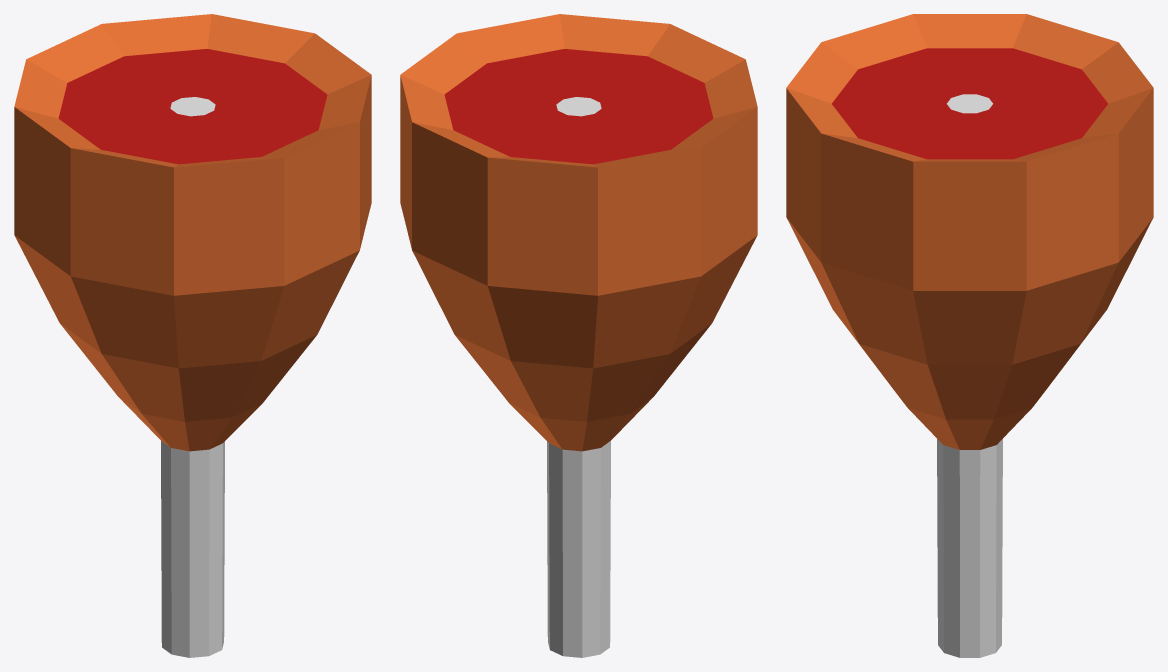
The model's file is lollipop.fbx.
3 renders of one model, left to right at view 1: azimuth 30°, elevation 25°; view 2: azimuth 150°, elevation 25°; view 3: azimuth 270°, elevation 25°, orthographic.
Parts seen in each view (by area): view 1: lollipop, lollipop.001; view 2: lollipop, lollipop.001; view 3: lollipop.001, lollipop.
Boxes of the visible parts, <box> form: lollipop: <box>14,24,284,657</box>; lollipop.001: <box>102,14,371,655</box>; lollipop: <box>487,24,757,657</box>; lollipop.001: <box>400,14,669,655</box>; lollipop.001: <box>786,88,1153,657</box>; lollipop: <box>786,14,1153,103</box>.
Bounding box in the file's own units: 301 × 530 × 317.
